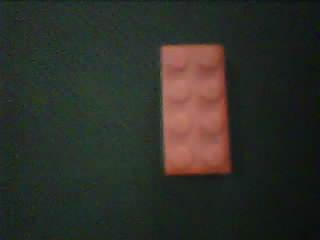lego: (159, 44, 233, 175)
